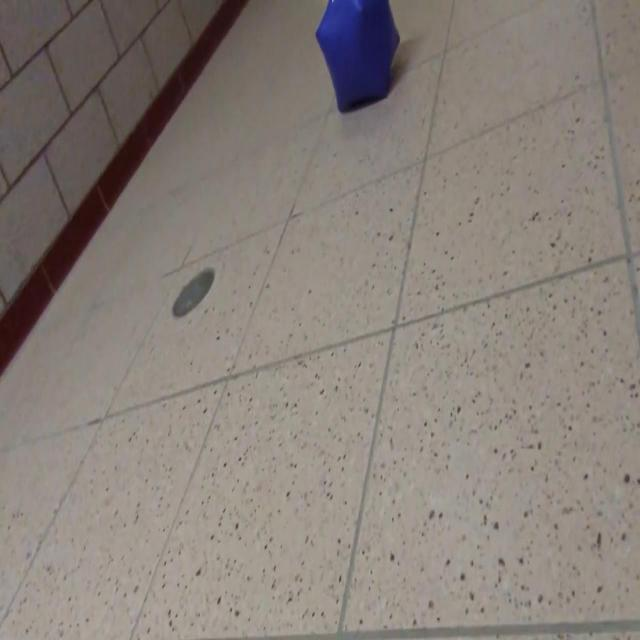frc_cube: (312, 0, 402, 110)
